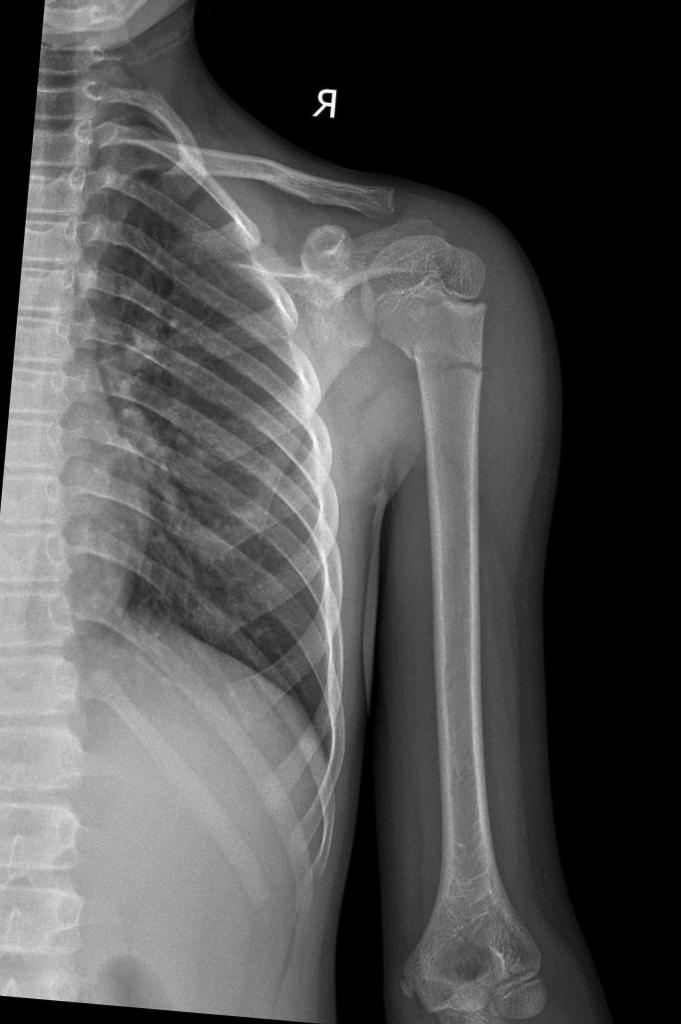line: (431, 352, 485, 382)
